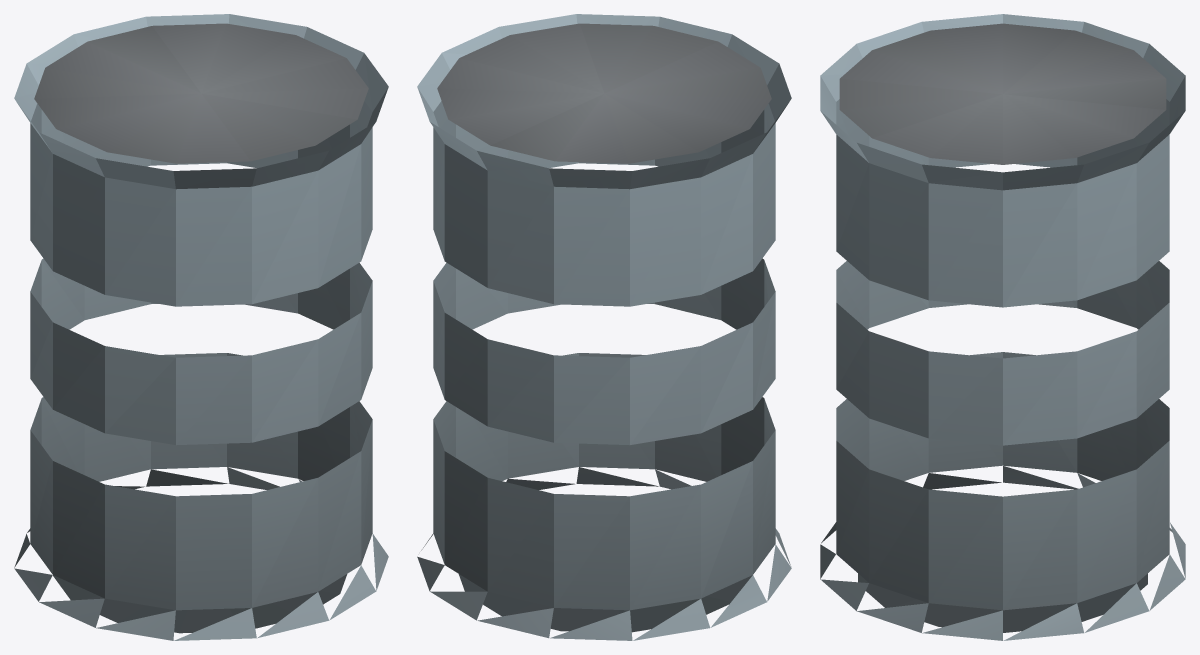
The model's file is pdrum.lod.glb.
3 renders of one model, left to right at view 1: azimuth 30°, elevation 25°; view 2: azimuth 150°, elevation 25°; view 3: azimuth 270°, elevation 25°, orthographic.
Parts seen in each view (by area): view 1: pdrum; view 2: pdrum; view 3: pdrum.
Part boxes in pixels (<box>): pdrum: <box>14,14,388,640</box>; pdrum: <box>417,14,791,640</box>; pdrum: <box>820,14,1185,640</box>.
Bounding box in the file's own units: 0.66 × 0.9273 × 0.6435.
